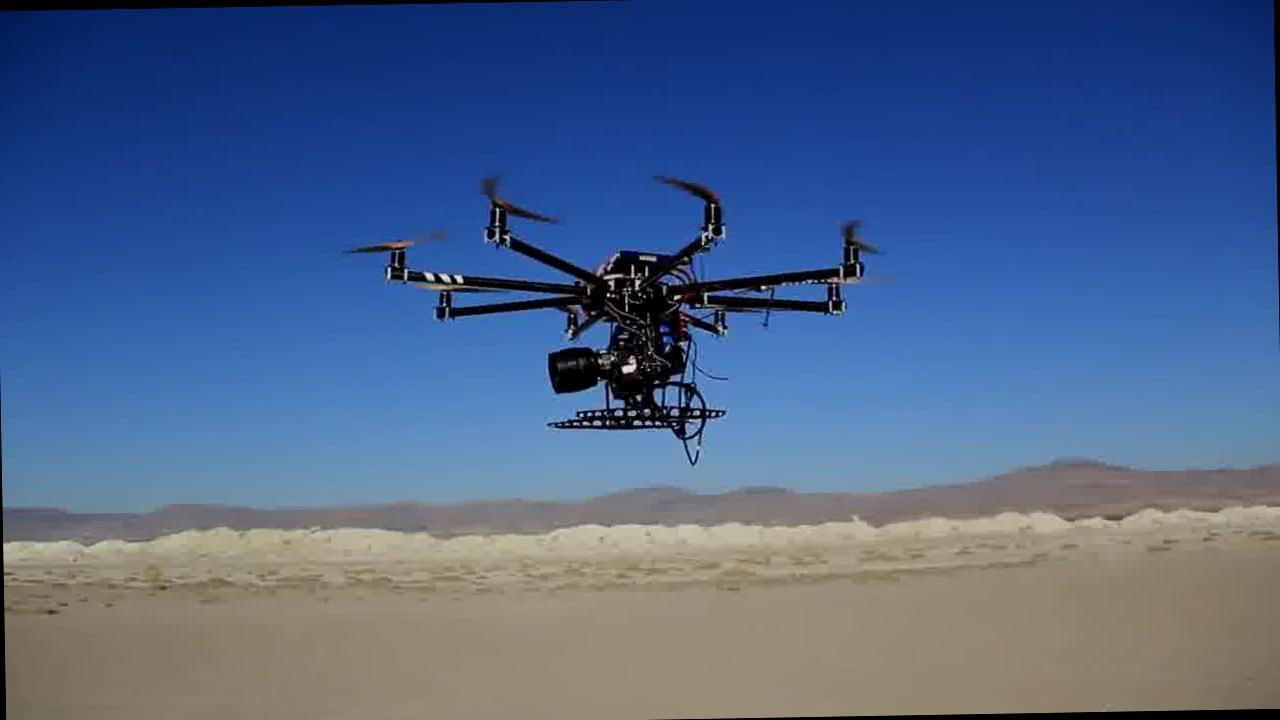drone: (347, 169, 889, 430)
